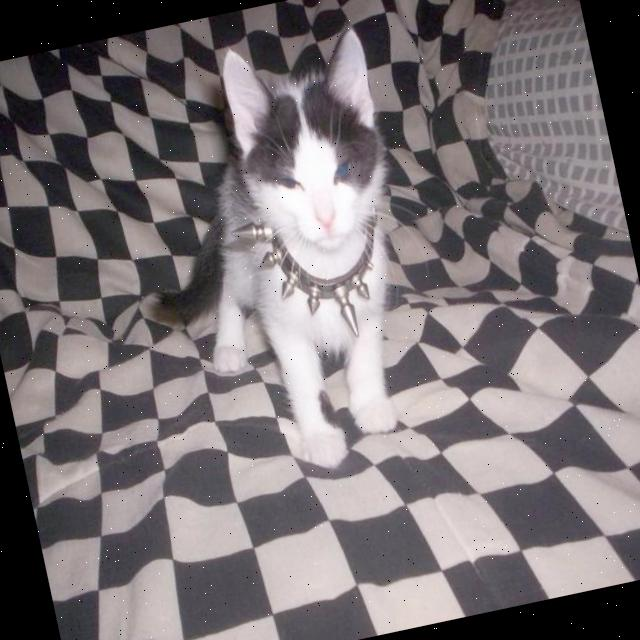cat: (148, 12, 460, 482)
